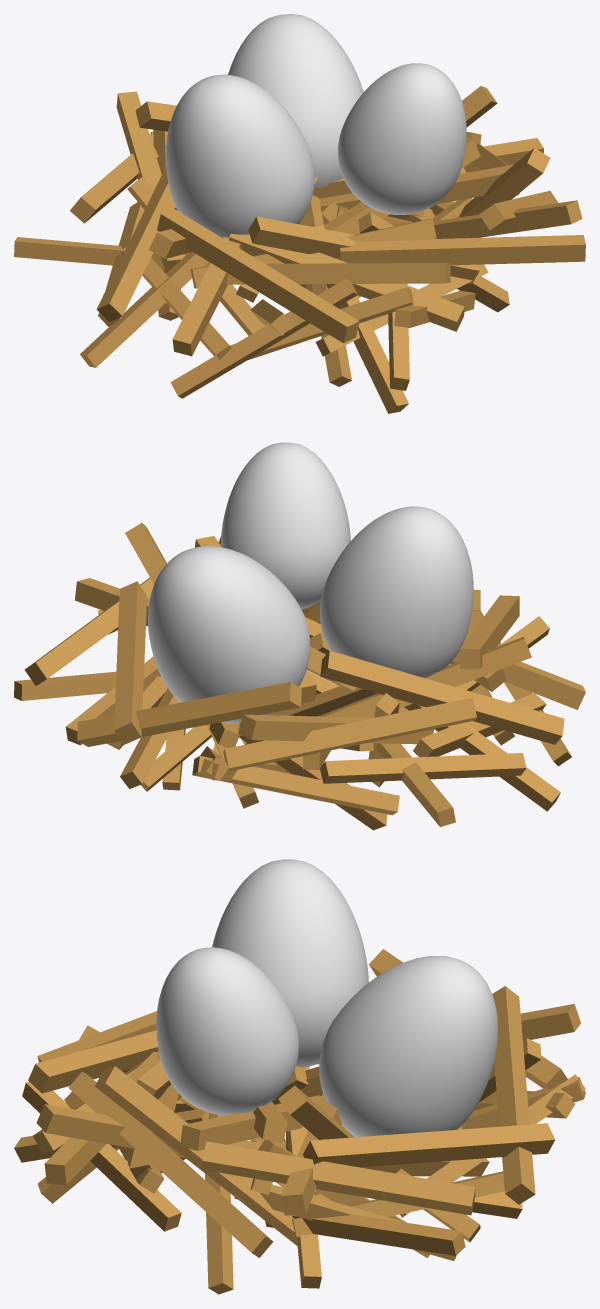
Rendered from egg.fbx.
3 renders of one model, top to bottom at view 1: azimuth 30°, elevation 25°; view 2: azimuth 150°, elevation 25°; view 3: azimuth 270°, elevation 25°, orthographic. The views are drawn at different scales.
Visible parts, largest first — view 1: Sphere, Sphere.002, Sphere.001, Cube.017, Cube.010, Cube.007, Cube.025, Cube.045, Cube.026, Cube.014, Cube.043, Cube.029 (+25 smaller); view 2: Sphere, Sphere.001, Sphere.002, Cube.025, Cube.031, Cube.018, Cube.059, Cube.023, Cube.058, Cube.015, Cube.016, Cube.004 (+23 smaller); view 3: Sphere.001, Sphere.002, Sphere, Cube.004, Cube.023, Cube.005, Cube.018, Cube.012, Cube.052, Cube.007, Cube.047, Cube.029 (+26 smaller).
Boxes of the visible parts, x1,y1,x2,y2 form: Sphere: [165, 74, 314, 237]; Sphere.002: [338, 63, 466, 214]; Sphere.001: [228, 14, 363, 187]; Cube.017: [339, 235, 585, 265]; Cube.010: [157, 208, 359, 343]; Cube.007: [207, 263, 450, 284]; Cube.025: [96, 167, 175, 321]; Cube.045: [170, 278, 357, 398]; Cube.026: [229, 233, 464, 331]; Cube.014: [248, 216, 479, 284]; Cube.043: [80, 252, 209, 367]; Cube.029: [433, 200, 582, 238]; Sphere: [320, 506, 473, 678]; Sphere.001: [148, 546, 310, 723]; Sphere.002: [221, 442, 350, 609]; Cube.025: [320, 650, 564, 744]; Cube.031: [223, 697, 476, 770]; Cube.018: [77, 682, 301, 746]; Cube.059: [320, 753, 526, 783]; Cube.023: [114, 581, 146, 744]; Cube.058: [192, 756, 399, 815]; Cube.015: [319, 637, 531, 717]; Cube.016: [238, 714, 434, 744]; Cube.004: [24, 578, 153, 685]; Sphere.001: [319, 956, 497, 1137]; Sphere.002: [156, 947, 298, 1115]; Sphere: [212, 859, 368, 1068]; Cube.004: [202, 1141, 475, 1215]; Cube.023: [303, 1123, 555, 1167]; Cube.005: [68, 1071, 273, 1257]; Cube.018: [492, 986, 535, 1204]; Cube.012: [95, 1066, 298, 1245]; Cube.052: [265, 1214, 465, 1255]; Cube.007: [28, 1030, 158, 1093]; Cube.047: [22, 1081, 181, 1231]; Cube.029: [36, 1104, 261, 1157].
Bounding box in the file's own units: 372 × 214 × 361.
